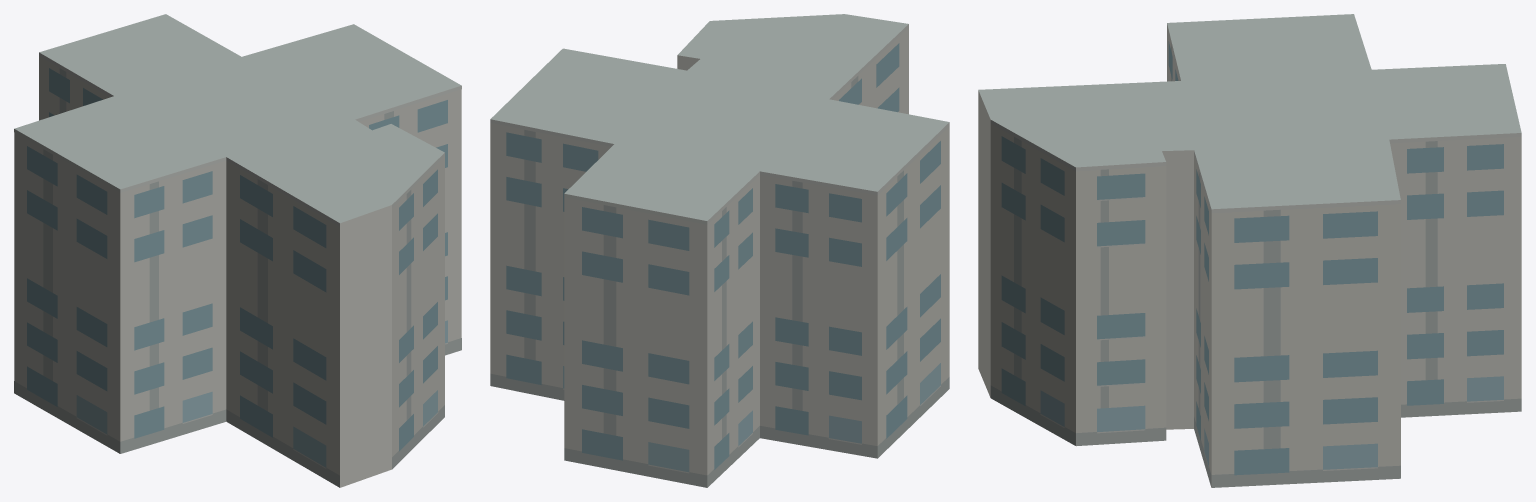
The model's file is survey-upis-32483582.glb.
3 views of the same model, side by side, from view 1: azimuth 30°, elevation 25°; view 2: azimuth 150°, elevation 25°; view 3: azimuth 270°, elevation 25° (orthographic). The views are drawn at different scales.
Visible parts, largest first — view 1: survey-upis-32483582.tmp; view 2: survey-upis-32483582.tmp; view 3: survey-upis-32483582.tmp.
Boxes of the visible parts, <box> form: survey-upis-32483582.tmp: <box>14,14,461,487</box>; survey-upis-32483582.tmp: <box>490,14,949,487</box>; survey-upis-32483582.tmp: <box>978,14,1521,487</box>.
Bounding box in the file's own units: 26.15 × 17.4 × 30.76.
